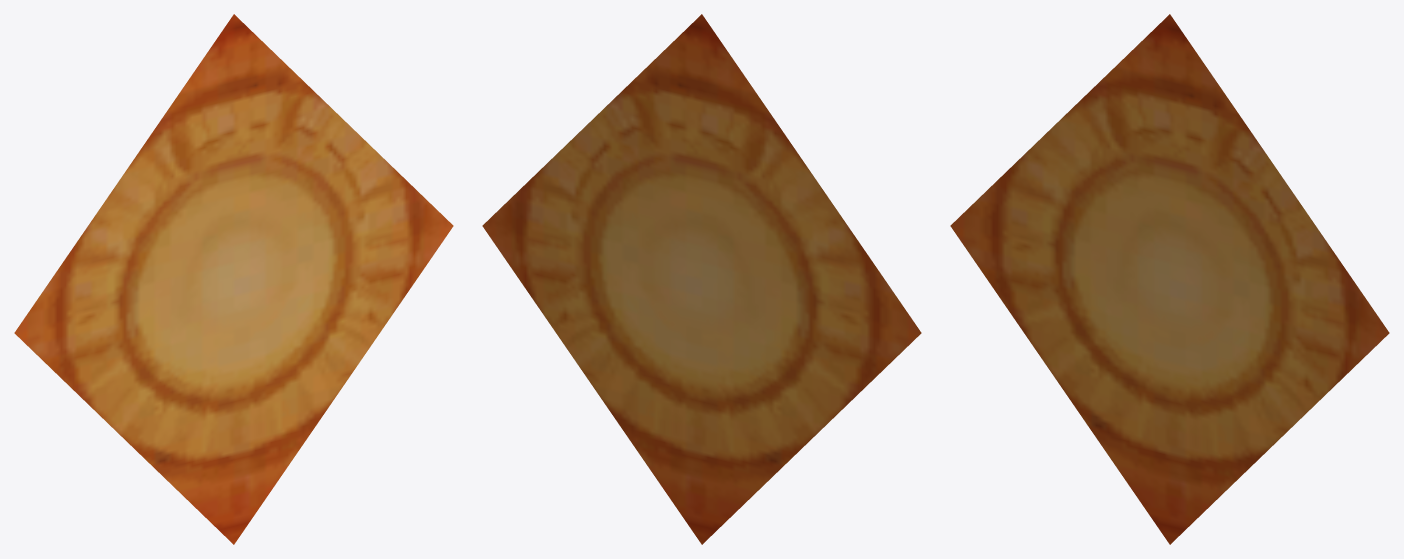
Rendered from hutt_fighter_light_engine_s02_on_l3.fbx.
3 views of the same model, side by side, from view 1: azimuth 30°, elevation 25°; view 2: azimuth 150°, elevation 25°; view 3: azimuth 330°, elevation 25° (orthographic).
Visible parts, largest first — view 1: mesh_node; view 2: mesh_node; view 3: mesh_node.
Part boxes in pixels (left/top/right/bottom): mesh_node: left=14, top=14, right=453, bottom=544; mesh_node: left=482, top=14, right=921, bottom=544; mesh_node: left=950, top=14, right=1389, bottom=544.
Size of the model in its own units: 0.84 by 0.97 by 0.
1 material, 1 textured.
